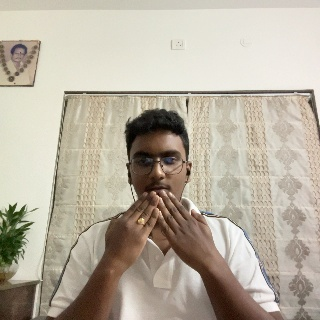Thank You: (105, 190, 225, 265)
